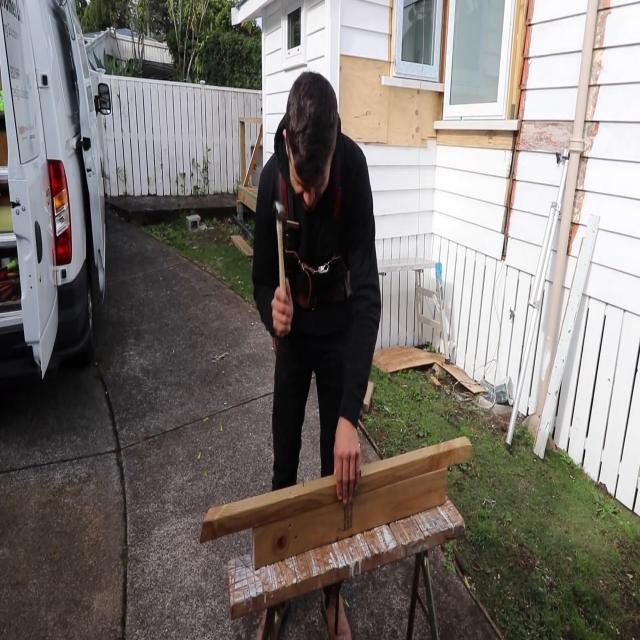hammer: (272, 202, 286, 292)
